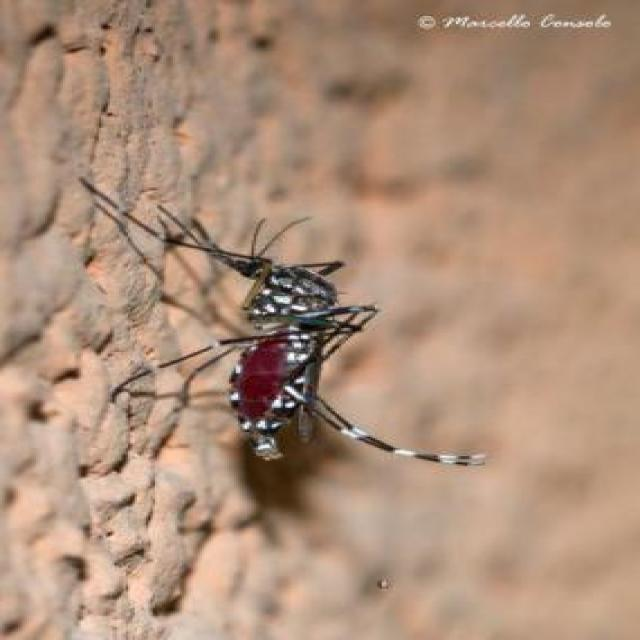antennae: (223, 206, 318, 264)
body: (233, 252, 330, 463)
insect: (79, 173, 487, 473)
legs: (82, 175, 250, 409), (334, 308, 482, 472)
wings: (296, 339, 327, 447)
